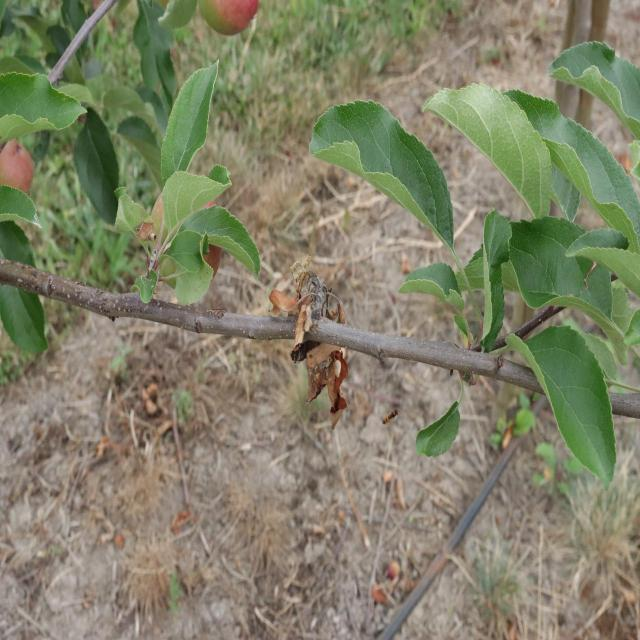-FireBlight-: (278, 266, 349, 419)
